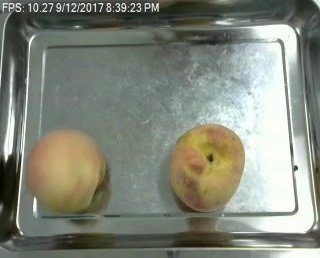Peach: (24, 127, 107, 214), (168, 122, 245, 211)
